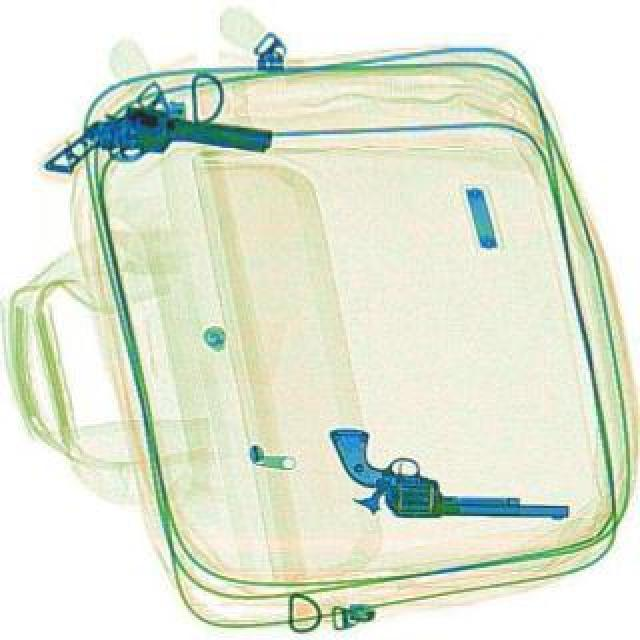gun: (40, 92, 272, 206), (326, 428, 568, 520)
